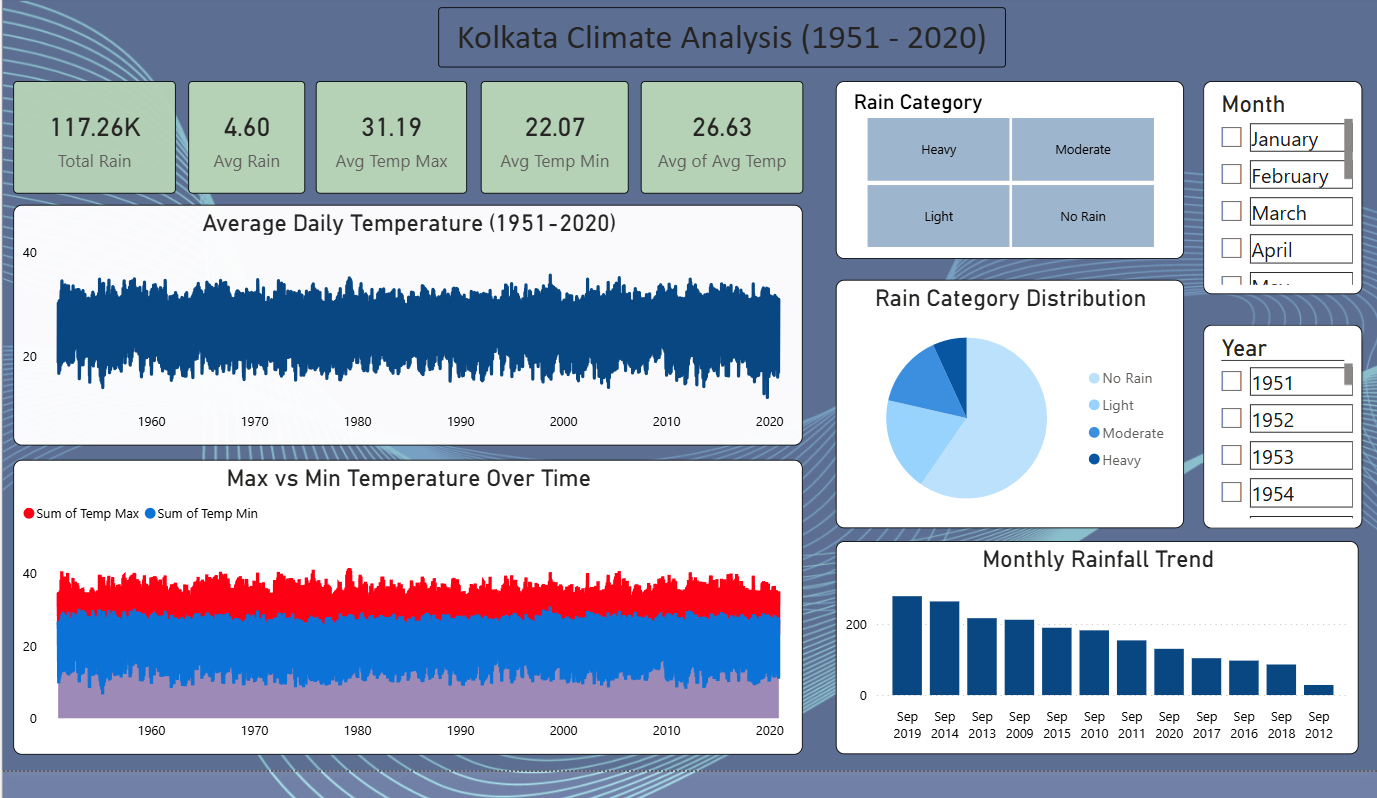

The dashboard page shown, as its layout file describes it:
{"tool":"powerbi","page":{"name":"Page 1","canvas":[1280,720],"ordinal":0},"visuals":[{"type":"card","fields":{"Values":["Kolkata.Total Rain"]},"box":[10.6,78.8,151.5,104.5],"z":0},{"type":"card","fields":{"Values":["Kolkata.Avg Rain"]},"box":[172.7,78.8,109.1,104.5],"z":1000},{"type":"card","fields":{"Values":["Kolkata.Avg Temp Max"]},"box":[292.4,78.8,140.9,104.5],"z":2000},{"type":"card","fields":{"Values":["Kolkata.Avg Temp Min"]},"box":[445.5,78.8,137.9,104.5],"z":3000},{"type":"card","fields":{"Values":["Kolkata.Avg of Avg Temp"]},"box":[593.9,78.8,151.5,104.5],"z":4000},{"type":"lineChart","title":"Average Daily Temperature (1951-2020)","fields":{"Y":["Sum(Kolkata.Temp Avg)"],"Category":["DateTable.Date"]},"box":[10.4,194,734.3,223.9],"z":5000},{"type":"areaChart","title":"Max vs Min Temperature Over Time","fields":{"Category":["DateTable.Date"],"Y":["Sum(Kolkata.Temp Max)","Sum(Kolkata.Temp Min)"]},"box":[10.4,431.3,734.3,274.6],"z":6000},{"type":"clusteredColumnChart","title":"Monthly Rainfall Trend","fields":{"Category":["DateTable.MonthYear"],"Y":["Kolkata.Total Rain"]},"box":[776.1,507.5,486.6,198.5],"z":7000},{"type":"slicer","fields":{"Values":["DateTable.Year"]},"box":[1117.9,306,147.8,189.6],"z":8000},{"type":"slicer","fields":{"Values":["DateTable.Month"]},"box":[1117.9,79.1,147.8,198.5],"z":9000},{"type":"slicer","fields":{"Values":["Kolkata.Rain Category"]},"box":[776.1,79.1,323.9,165.7],"z":10000},{"type":"pieChart","title":"Rain Category Distribution","fields":{"Category":["Kolkata.Rain Category"],"Y":["CountNonNull(DateTable.Date)"]},"box":[776.1,264.2,323.9,231.3],"z":11000},{"type":"textbox","box":[406.2,10.9,528.1,56.2],"z":12000},{"type":"textbox","box":[969.8,0,291.9,77.9],"z":13000}]}

Visuals, with their boxes in screenshot pixels (x1, y1, x2, y2), scaled from the page's 1280x720 canvas onto the 1377x798 screenshot:
card - Kolkata.Total Rain: x1=11 y1=87 x2=174 y2=203
card - Kolkata.Avg Rain: x1=186 y1=87 x2=303 y2=203
card - Kolkata.Avg Temp Max: x1=315 y1=87 x2=466 y2=203
card - Kolkata.Avg Temp Min: x1=479 y1=87 x2=628 y2=203
card - Kolkata.Avg of Avg Temp: x1=639 y1=87 x2=802 y2=203
"Average Daily Temperature (1951-2020)" lineChart: x1=11 y1=215 x2=801 y2=463
"Max vs Min Temperature Over Time" areaChart: x1=11 y1=478 x2=801 y2=782
"Monthly Rainfall Trend" clusteredColumnChart: x1=835 y1=562 x2=1358 y2=782
slicer - DateTable.Year: x1=1203 y1=339 x2=1362 y2=549
slicer - DateTable.Month: x1=1203 y1=88 x2=1362 y2=308
slicer - Kolkata.Rain Category: x1=835 y1=88 x2=1183 y2=271
"Rain Category Distribution" pieChart: x1=835 y1=293 x2=1183 y2=549
textbox: x1=437 y1=12 x2=1005 y2=74
textbox: x1=1043 y1=0 x2=1357 y2=86
